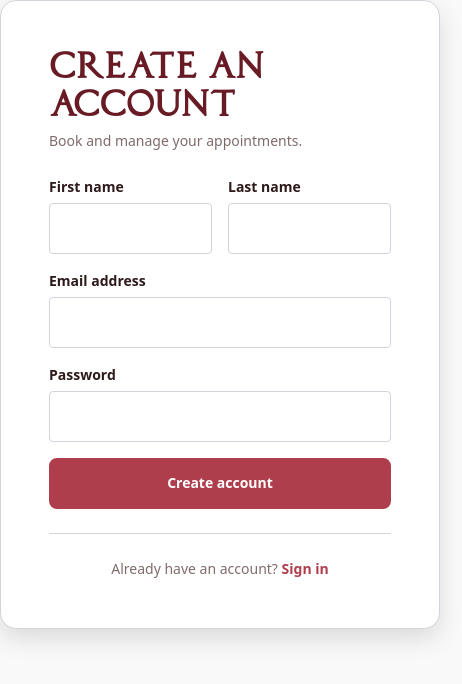
Test: SignupPage — validation › shows an error for an invalid email
In the field labelled "First name": (130, 228) [49,203,212,254], type "Jane"
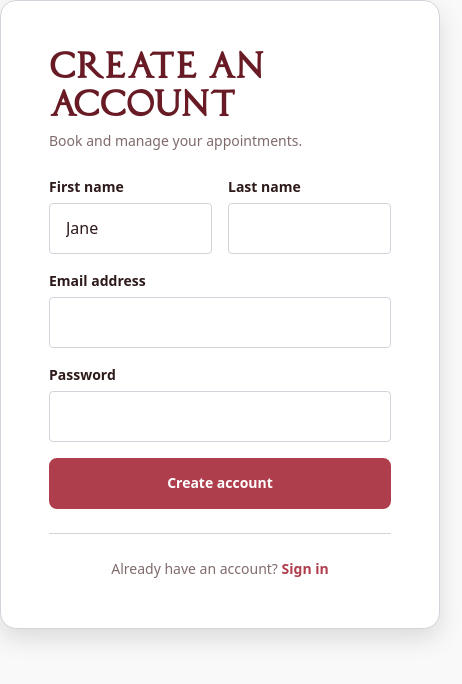
In the field labelled "Last name": (310, 228) [228,203,391,254], type "Doe"
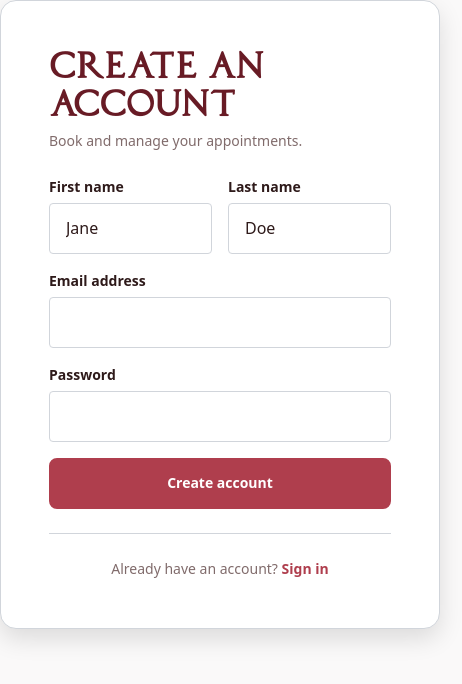
In the field labelled "Email address": (220, 322) [49,296,391,348], type "bademail"
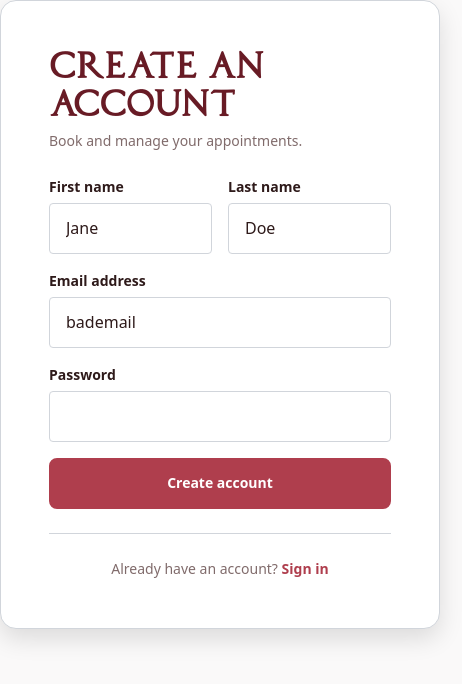
In the password field labelled "Password": (220, 416) [49,390,391,442], type "Password1"
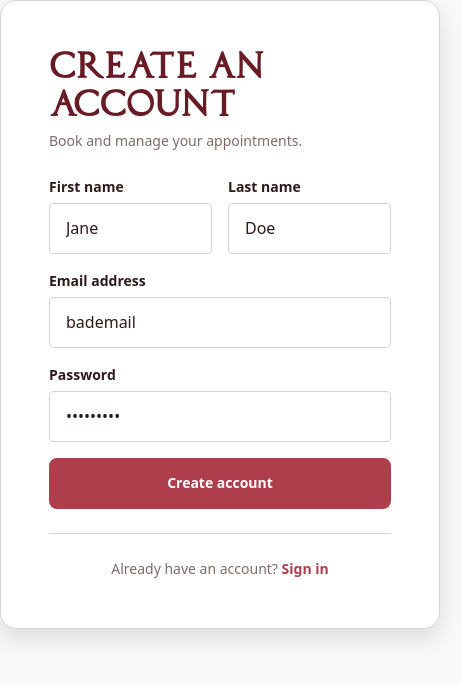
Click the button "Create account": (220, 483) [49,458,391,508]
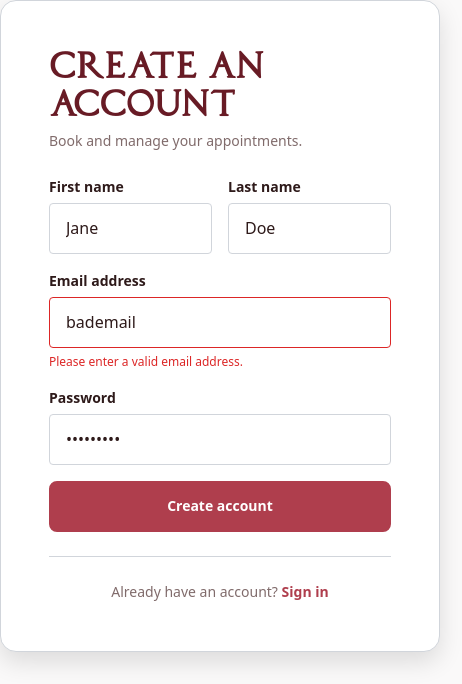
Expected: the text "Please enter a valid email address." is shown, [49,353,243,370]
